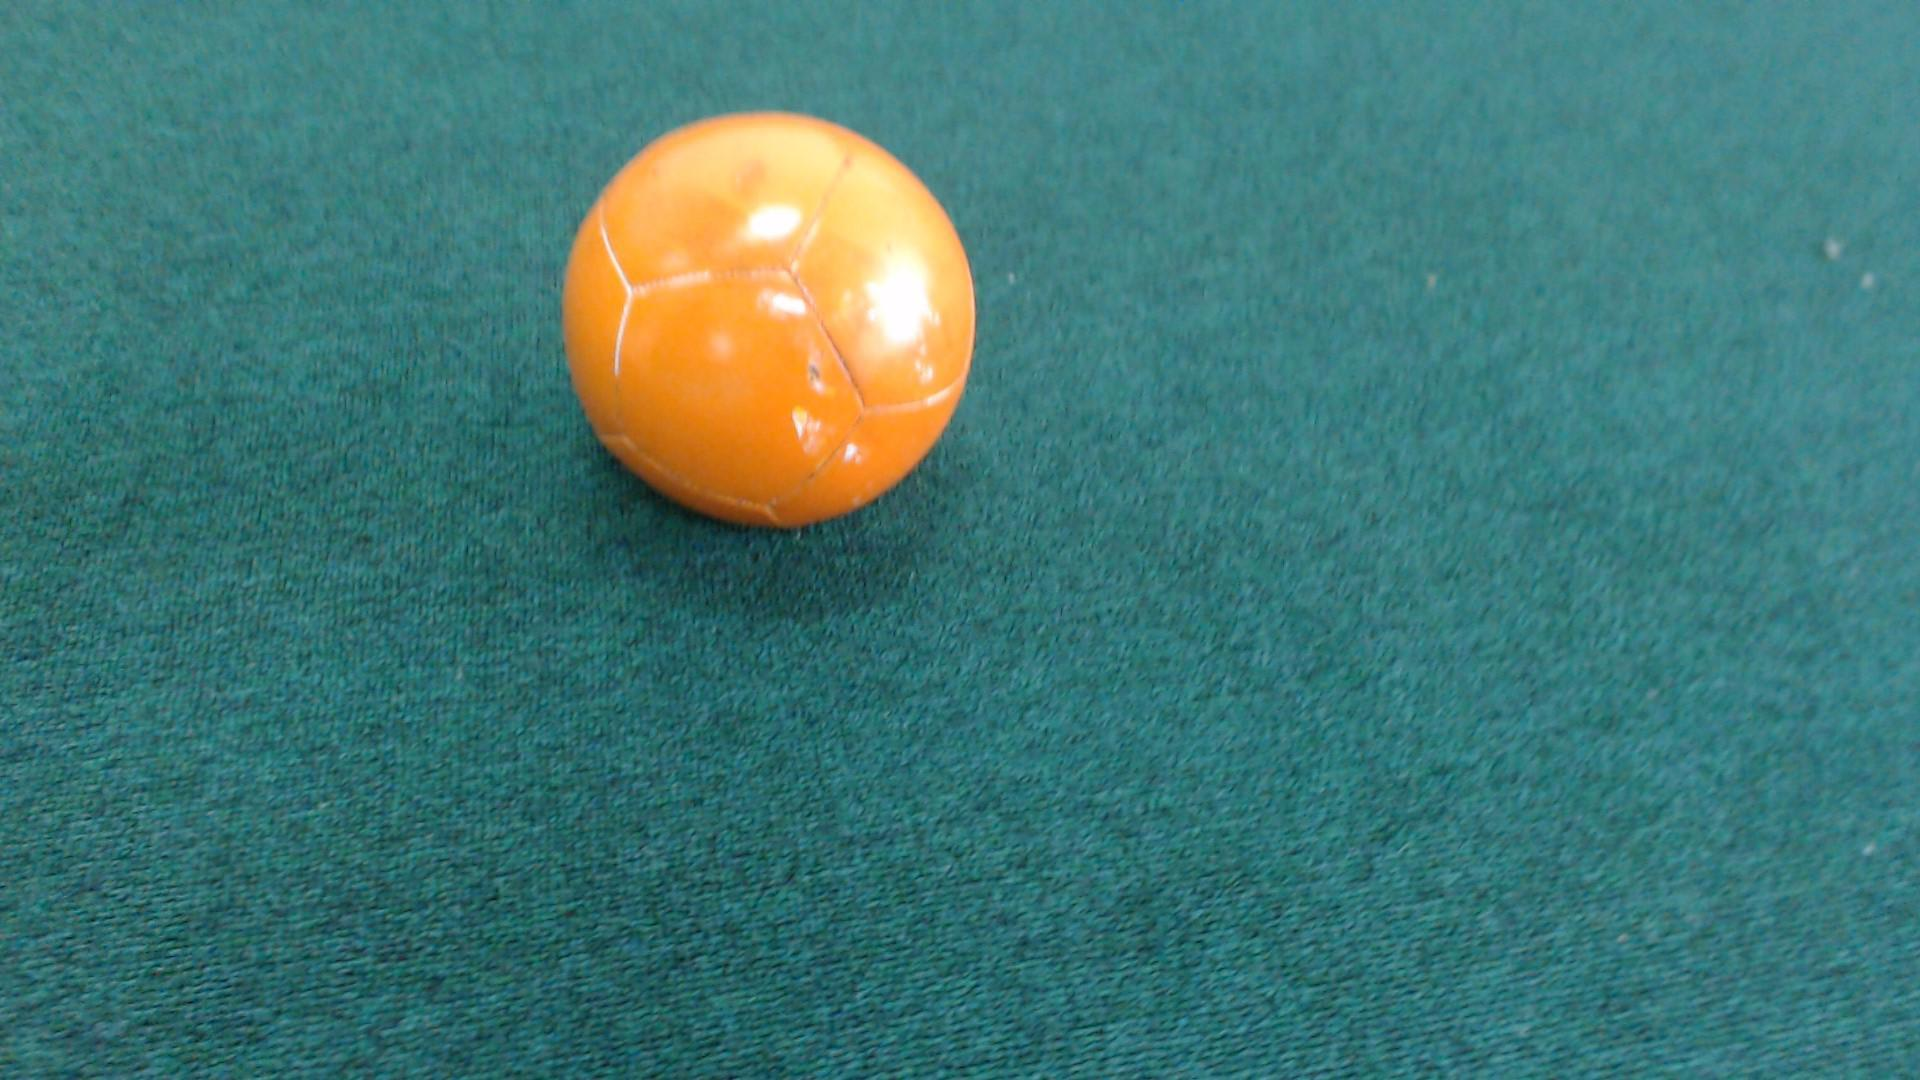bola: (535, 86, 985, 559)
